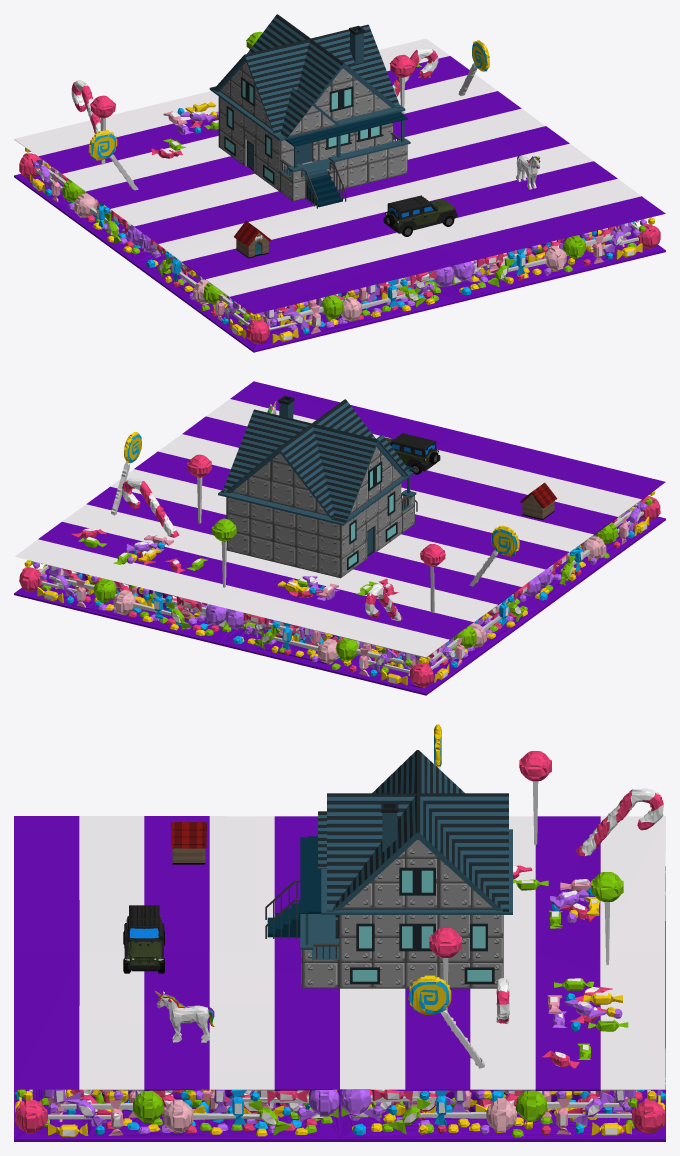
The picture shows the model from 3 angles, top to bottom: view 1: azimuth 30°, elevation 25°; view 2: azimuth 150°, elevation 25°; view 3: azimuth 270°, elevation 25°; orthographic projection. The views are drawn at different scales.
Visible parts, largest first — view 1: TERRAIN_CANDY, Cube.078, VEHICLES_JEEP, OBJRANDOM_DOGHOUSE, ANIMAL_UNICORNIO; view 2: TERRAIN_CANDY, Cube.078, VEHICLES_JEEP, OBJRANDOM_DOGHOUSE; view 3: TERRAIN_CANDY, Cube.078, VEHICLES_JEEP, OBJRANDOM_DOGHOUSE, ANIMAL_UNICORNIO.
Part boxes in pixels (left/top/right/bottom): TERRAIN_CANDY: left=14, top=31, right=665, bottom=352; Cube.078: left=209, top=14, right=410, bottom=208; VEHICLES_JEEP: left=383, top=195, right=457, bottom=236; OBJRANDOM_DOGHOUSE: left=234, top=221, right=271, bottom=258; ANIMAL_UNICORNIO: left=516, top=155, right=540, bottom=189; TERRAIN_CANDY: left=14, top=381, right=665, bottom=695; Cube.078: left=218, top=395, right=417, bottom=578; VEHICLES_JEEP: left=385, top=433, right=440, bottom=474; OBJRANDOM_DOGHOUSE: left=520, top=482, right=557, bottom=519; TERRAIN_CANDY: left=14, top=724, right=665, bottom=1141; Cube.078: left=265, top=750, right=512, bottom=988; VEHICLES_JEEP: left=123, top=905, right=164, bottom=973; OBJRANDOM_DOGHOUSE: left=171, top=822, right=206, bottom=864; ANIMAL_UNICORNIO: left=155, top=991, right=214, bottom=1042.
Bounding box in the file's own units: 4059 × 1584 × 4000.
Materials: 37 (4 with a texture image).
